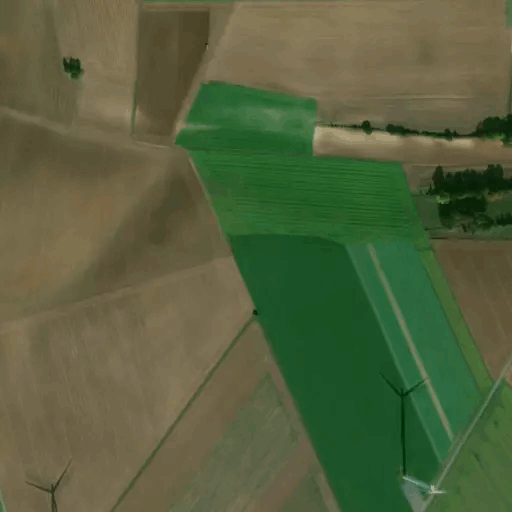wt: (377, 369, 459, 499), (17, 451, 74, 512)
